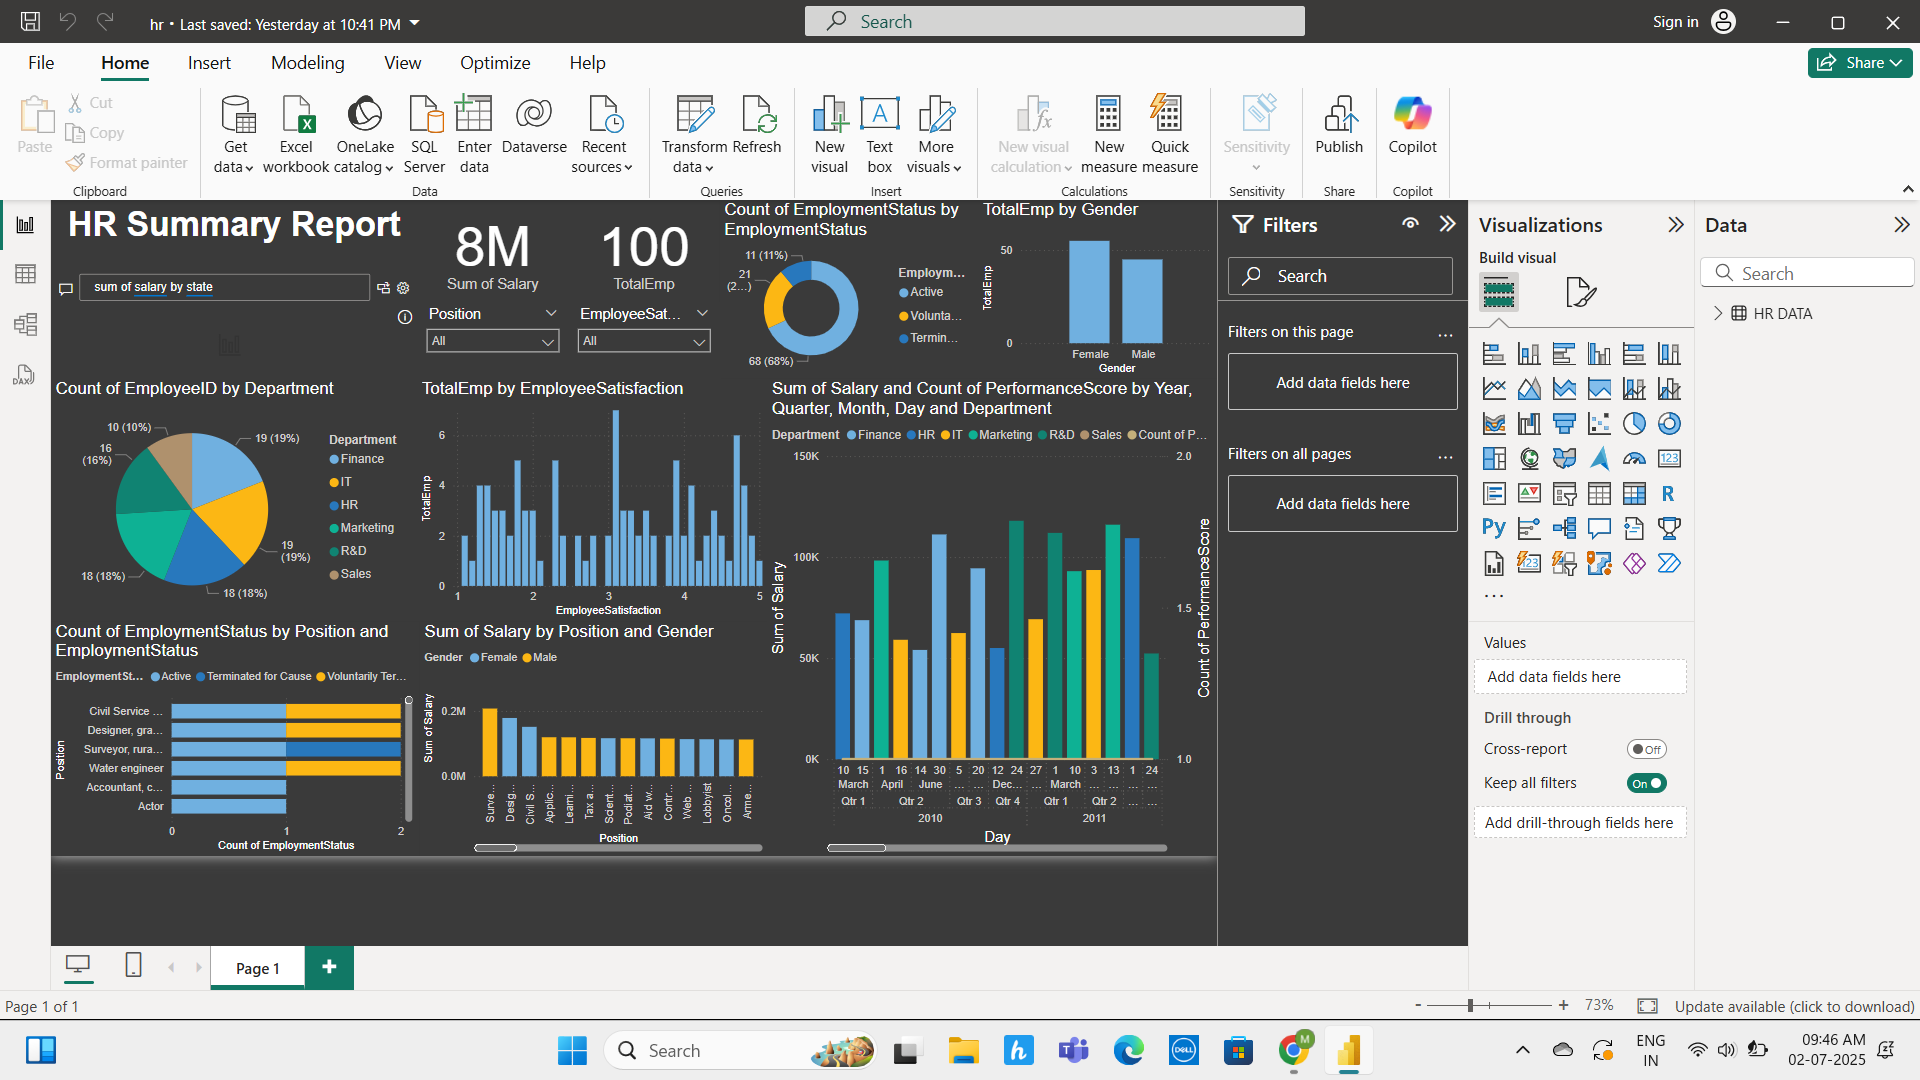

What the dashboard file says about the page in this screenshot:
{"tool":"powerbi","page":{"name":"Page 1","canvas":[1280,720],"ordinal":0},"visuals":[{"type":"barChart","fields":{"Category":["Sheet1.Position"],"Y":["CountNonNull(Sheet1.EmploymentStatus)"],"Series":["Sheet1.EmploymentStatus"]},"box":[0,462.4,402.1,258],"z":0},{"type":"columnChart","fields":{"Y":["Sum(Sheet1.Salary)"],"Category":["Sheet1.Position"],"Series":["Sheet1.Gender"]},"box":[404.8,462.4,381.5,258],"z":1000},{"type":"lineStackedColumnComboChart","fields":{"Y":["Sum(Sheet1.Salary)"],"Series":["Sheet1.Department"],"Y2":["CountNonNull(Sheet1.PerformanceScore)"],"Category":["HR DATA.HiringDate.Variation.Date Hierarchy.Year","HR DATA.HiringDate.Variation.Date Hierarchy.Quarter","HR DATA.HiringDate.Variation.Date Hierarchy.Month","HR DATA.HiringDate.Variation.Date Hierarchy.Day"]},"box":[786.3,196.2,494,524.2],"z":2000},{"type":"pieChart","fields":{"Y":["CountNonNull(Sheet1.EmployeeID)"],"Category":["Sheet1.Department"]},"box":[0,196.2,402.1,266.2],"z":3000},{"type":"columnChart","fields":{"Category":["HR DATA.EmployeeSatisfaction"],"Y":["HR DATA.TotalEmp"]},"box":[402.1,196.2,384.2,266.2],"z":4000},{"type":"textbox","box":[0,0,402.1,59],"z":5000},{"type":"card","fields":{"Values":["Sum(HR DATA.Salary)"]},"box":[402.1,0,166,111.1],"z":6000},{"type":"card","fields":{"Values":["HR DATA.TotalEmp"]},"box":[568.1,0,166,111.1],"z":7000},{"type":"donutChart","fields":{"Category":["HR DATA.EmploymentStatus"],"Y":["CountNonNull(HR DATA.EmploymentStatus)"]},"box":[734.1,0,284,196.2],"z":8000},{"type":"columnChart","fields":{"Category":["HR DATA.Gender"],"Y":["HR DATA.TotalEmp"]},"box":[1018,0,262,196],"z":9000},{"type":"slicer","fields":{"Values":["HR DATA.Position"]},"box":[402.1,111.1,166,85.1],"z":10000},{"type":"slicer","fields":{"Values":["HR DATA.EmployeeSatisfaction"]},"box":[568.1,111.1,166,85.1],"z":11000},{"type":"qnaVisual","box":[0,56.3,402.1,140],"z":12000}]}

Visuals, with their boxes on the page's 1280x720 design canvas (x1, y1, x2, y2). These are canvas units, not pixel positions in the 1920x1080 screenshot, which may show the page scaled, cropped or inside an application window:
barChart - Sheet1.Position x CountNonNull(Sheet1.EmploymentStatus): (x1=0, y1=462, x2=402, y2=720)
columnChart - Sum(Sheet1.Salary) x Sheet1.Position: (x1=405, y1=462, x2=786, y2=720)
lineStackedColumnComboChart - Sum(Sheet1.Salary) x Sheet1.Department: (x1=786, y1=196, x2=1280, y2=720)
pieChart - CountNonNull(Sheet1.EmployeeID) x Sheet1.Department: (x1=0, y1=196, x2=402, y2=462)
columnChart - HR DATA.EmployeeSatisfaction x HR DATA.TotalEmp: (x1=402, y1=196, x2=786, y2=462)
textbox: (x1=0, y1=0, x2=402, y2=59)
card - Sum(HR DATA.Salary): (x1=402, y1=0, x2=568, y2=111)
card - HR DATA.TotalEmp: (x1=568, y1=0, x2=734, y2=111)
donutChart - HR DATA.EmploymentStatus x CountNonNull(HR DATA.EmploymentStatus): (x1=734, y1=0, x2=1018, y2=196)
columnChart - HR DATA.Gender x HR DATA.TotalEmp: (x1=1018, y1=0, x2=1280, y2=196)
slicer - HR DATA.Position: (x1=402, y1=111, x2=568, y2=196)
slicer - HR DATA.EmployeeSatisfaction: (x1=568, y1=111, x2=734, y2=196)
qnaVisual: (x1=0, y1=56, x2=402, y2=196)
